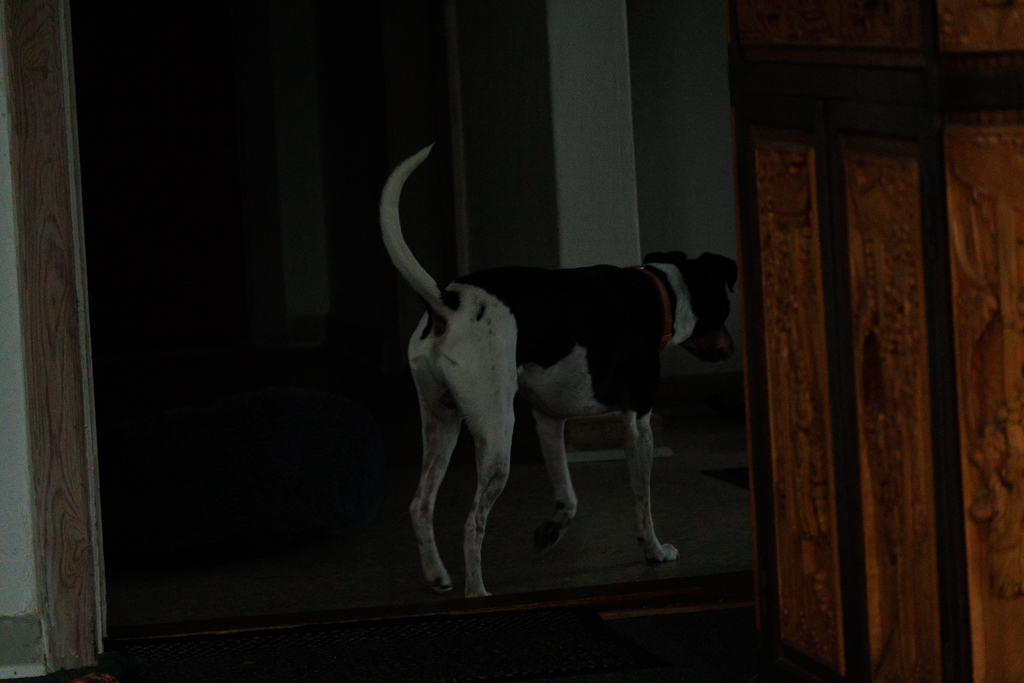Dog: (368, 127, 746, 605)
